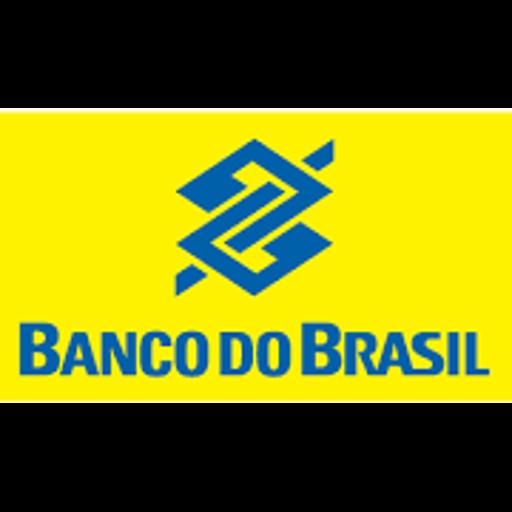Banco do Brasil S-A: (0, 108, 512, 403)
